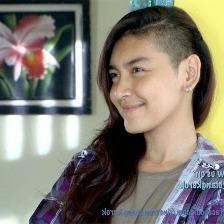Non hijab: (58, 3, 214, 224)
